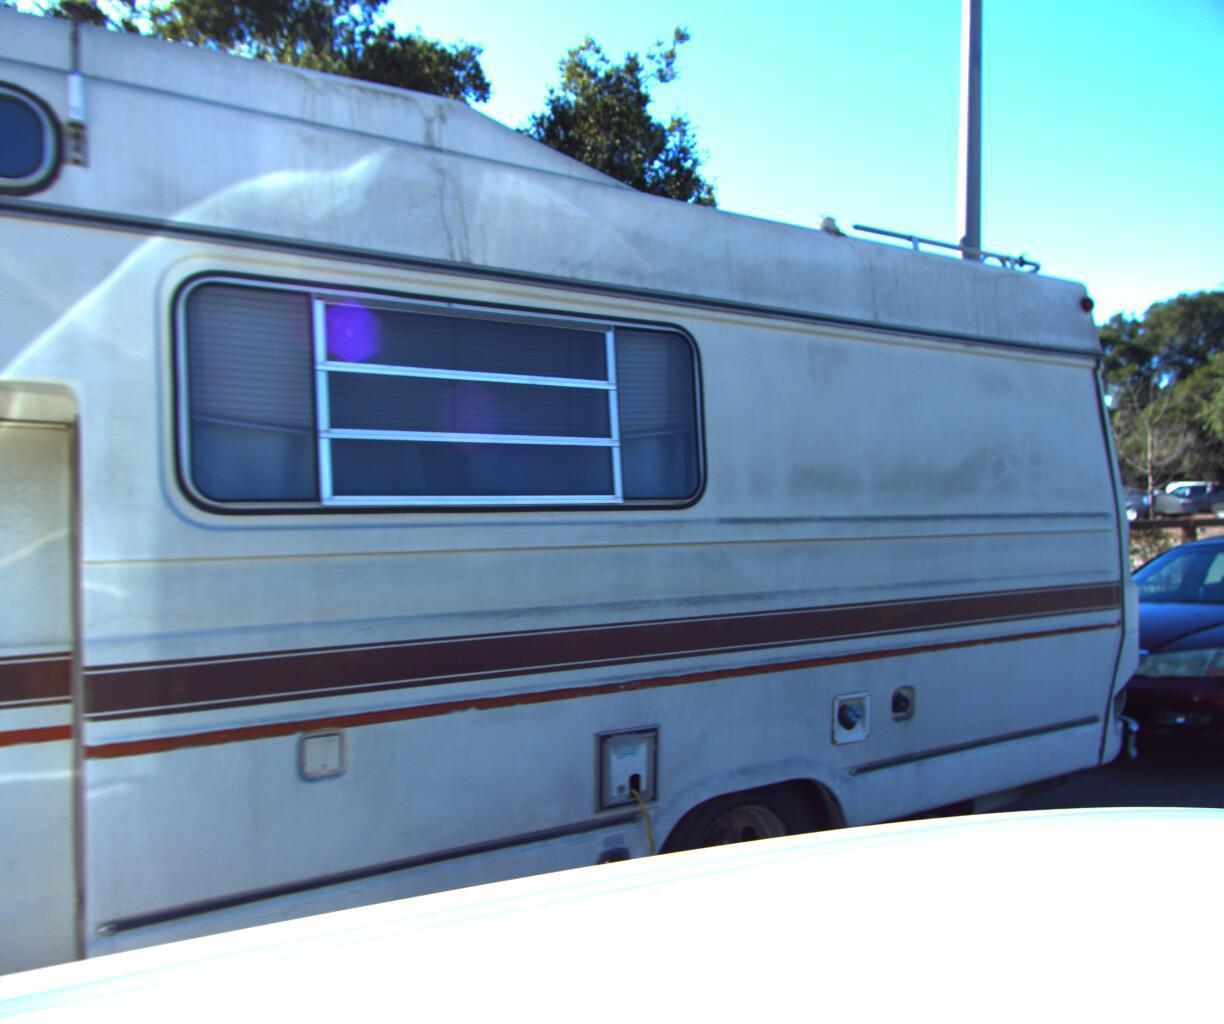car: (961, 511, 1224, 806)
other_vehicle: (0, 0, 1173, 1024)
